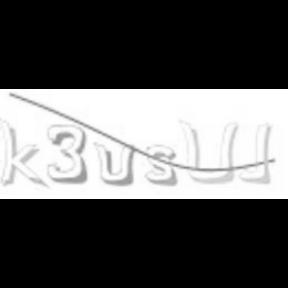3: (46, 123, 88, 185)
J: (238, 120, 276, 186)
U: (178, 114, 240, 186)
k: (0, 117, 46, 189)
s: (144, 142, 178, 188)
u: (91, 140, 140, 186)
